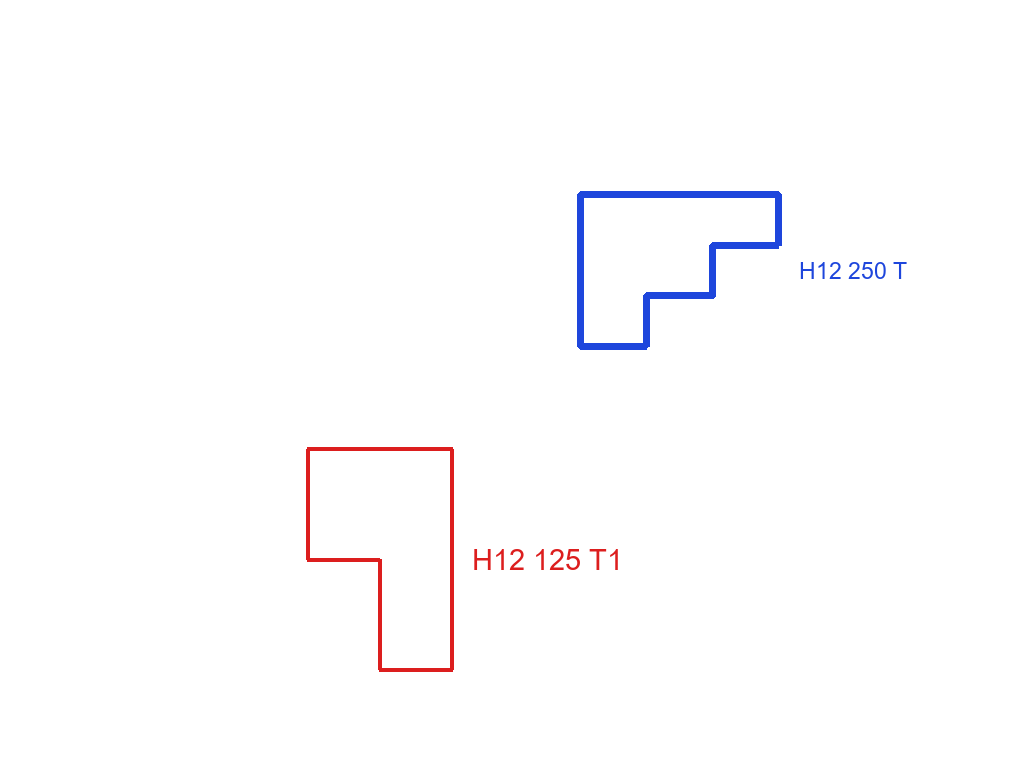shape: (304, 446, 456, 674), (575, 189, 784, 352)
text: (470, 547, 625, 572), (797, 260, 909, 281)
